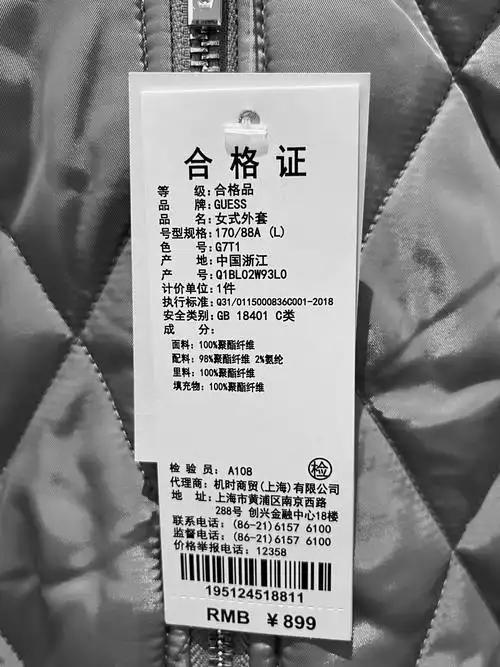Barcode: (173, 540, 339, 610)
